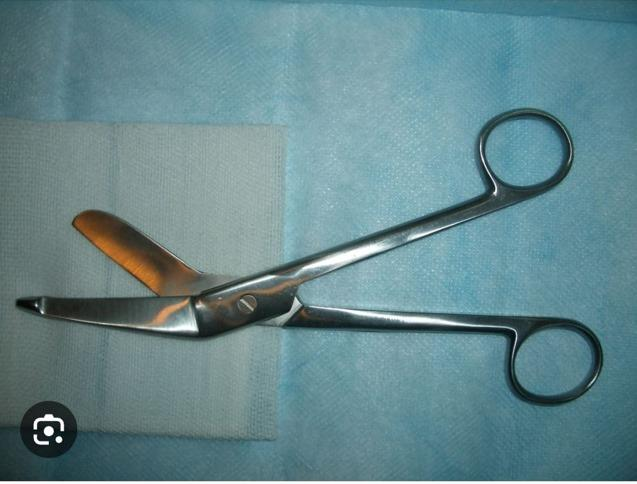Bandage Sciccors: (14, 103, 609, 410)
